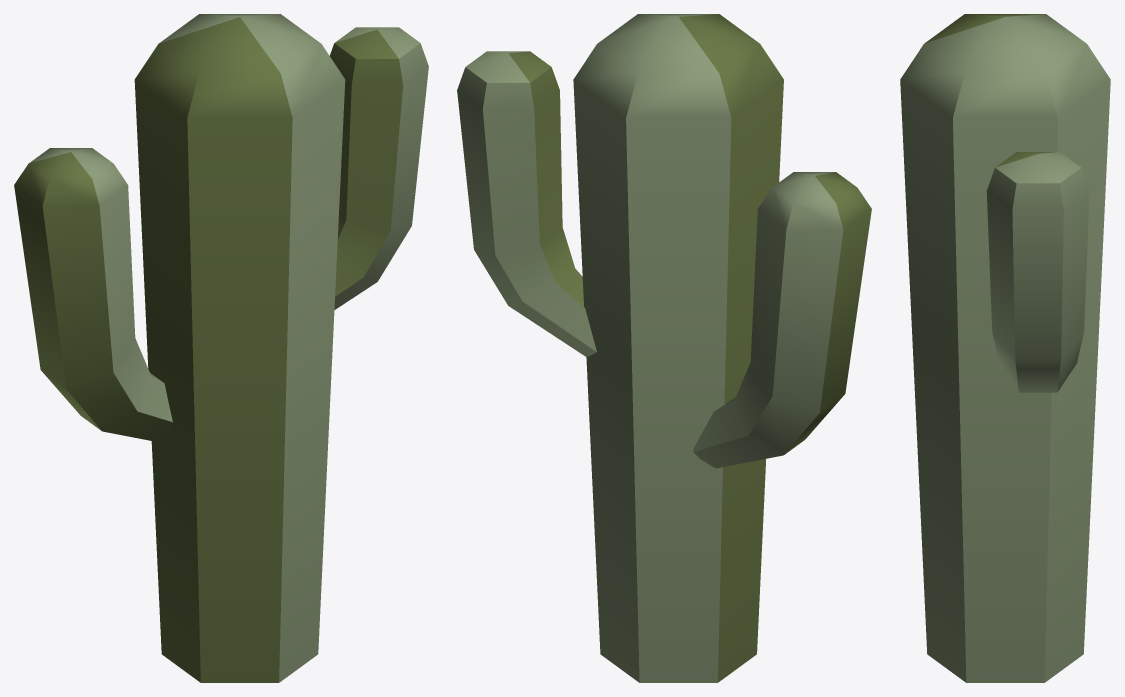
Rendered from RW_HG_Environment_Tree_Cactus.001.fbx.
3 renders of one model, left to right at view 1: azimuth 30°, elevation 25°; view 2: azimuth 150°, elevation 25°; view 3: azimuth 270°, elevation 25°, orthographic.
Parts seen in each view (by area): view 1: RW_HG_Environment_Tree_Cactus.001; view 2: RW_HG_Environment_Tree_Cactus.001; view 3: RW_HG_Environment_Tree_Cactus.001.
Part boxes in pixels (x1,y1,x2,y2): RW_HG_Environment_Tree_Cactus.001: (14,14,428,682); RW_HG_Environment_Tree_Cactus.001: (457,14,871,682); RW_HG_Environment_Tree_Cactus.001: (900,14,1110,682).
Bounding box in the file's own units: 0.5401 × 0.8484 × 0.2541.
